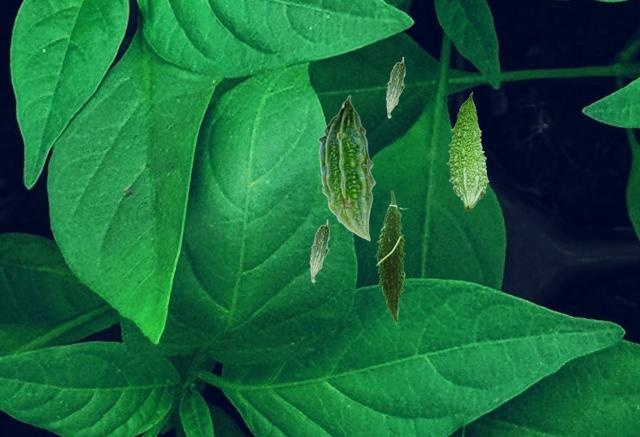ampalaya: (317, 94, 376, 241), (446, 91, 489, 211), (374, 189, 409, 324), (309, 219, 330, 283), (385, 56, 405, 119)
